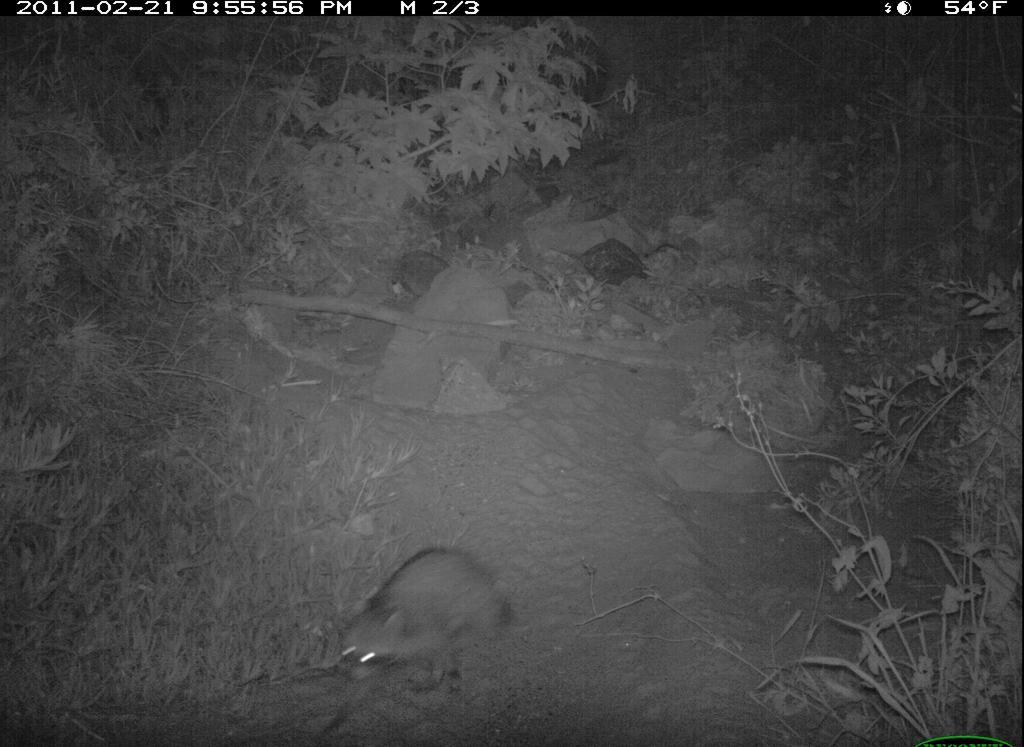raccoon: (319, 543, 515, 747)
